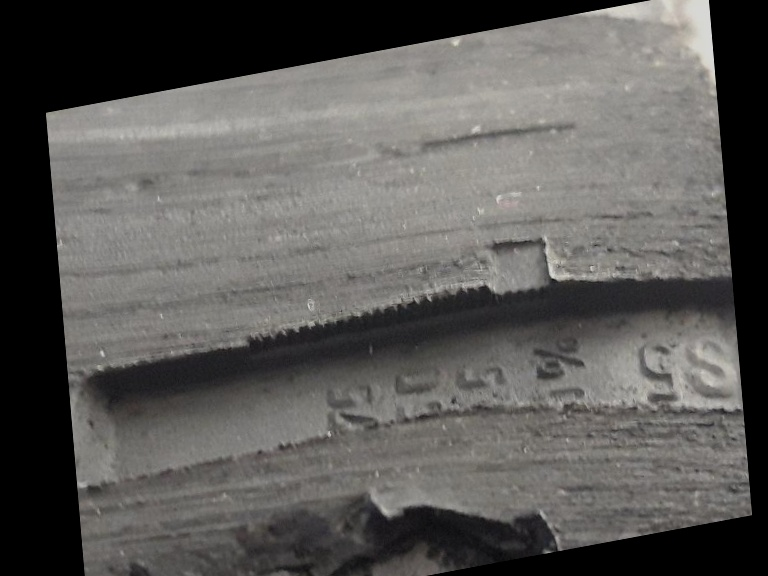temoin:0: (461, 212, 577, 341)
